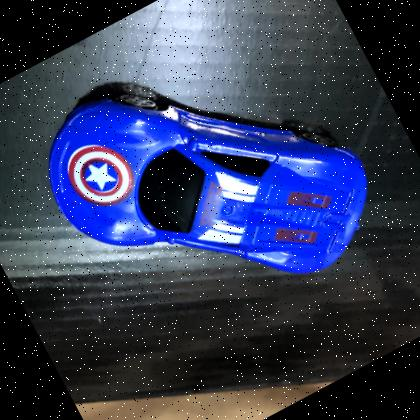Car: (47, 93, 367, 273)
